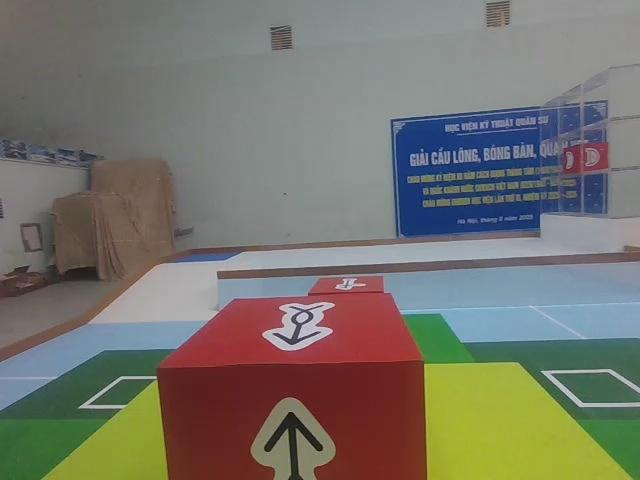R2 Real: (157, 291, 427, 480)
